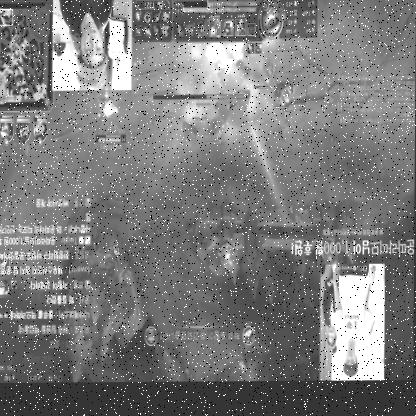donation: (291, 229, 415, 382)
streamer: (59, 0, 115, 92)
